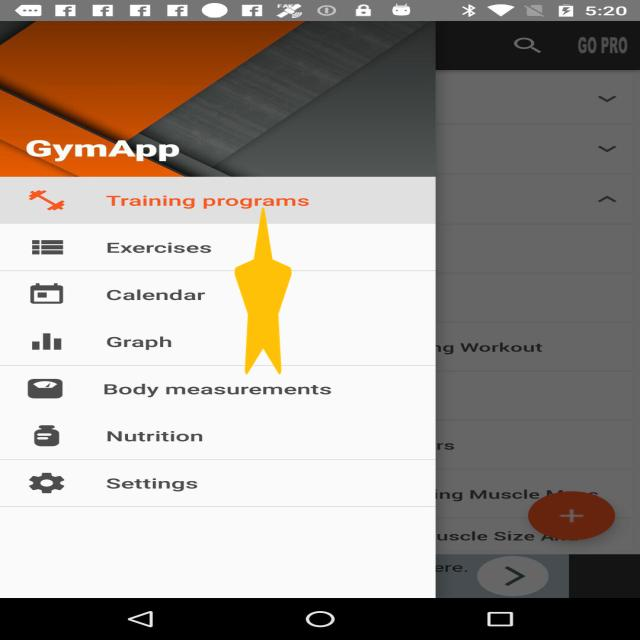forced continuity: (234, 207, 292, 375)
